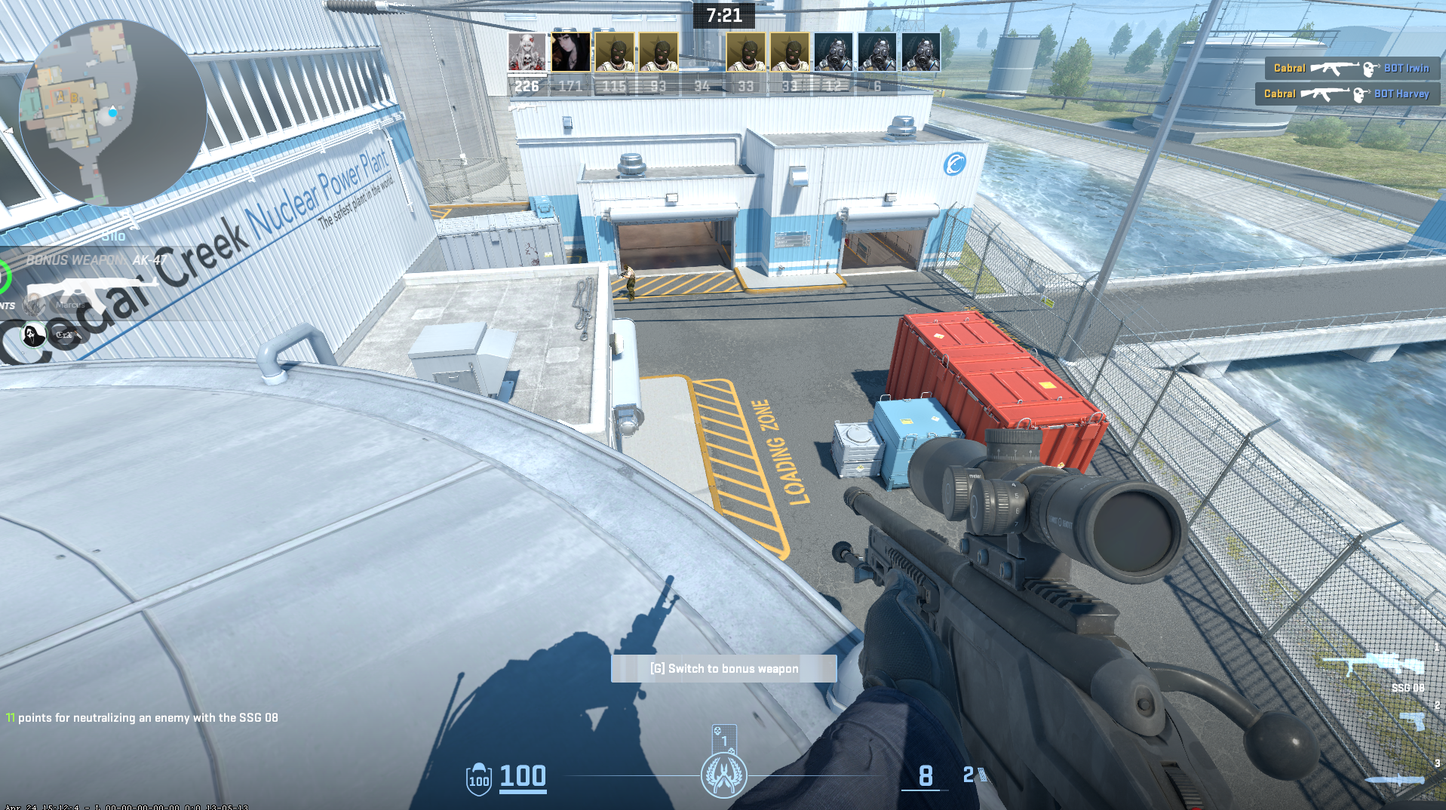T: (622, 264, 637, 301)
